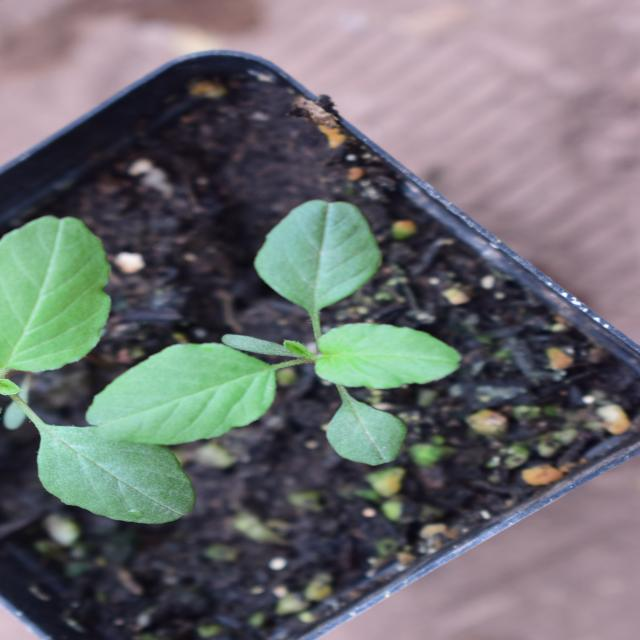pigweed: (176, 92, 440, 451)
